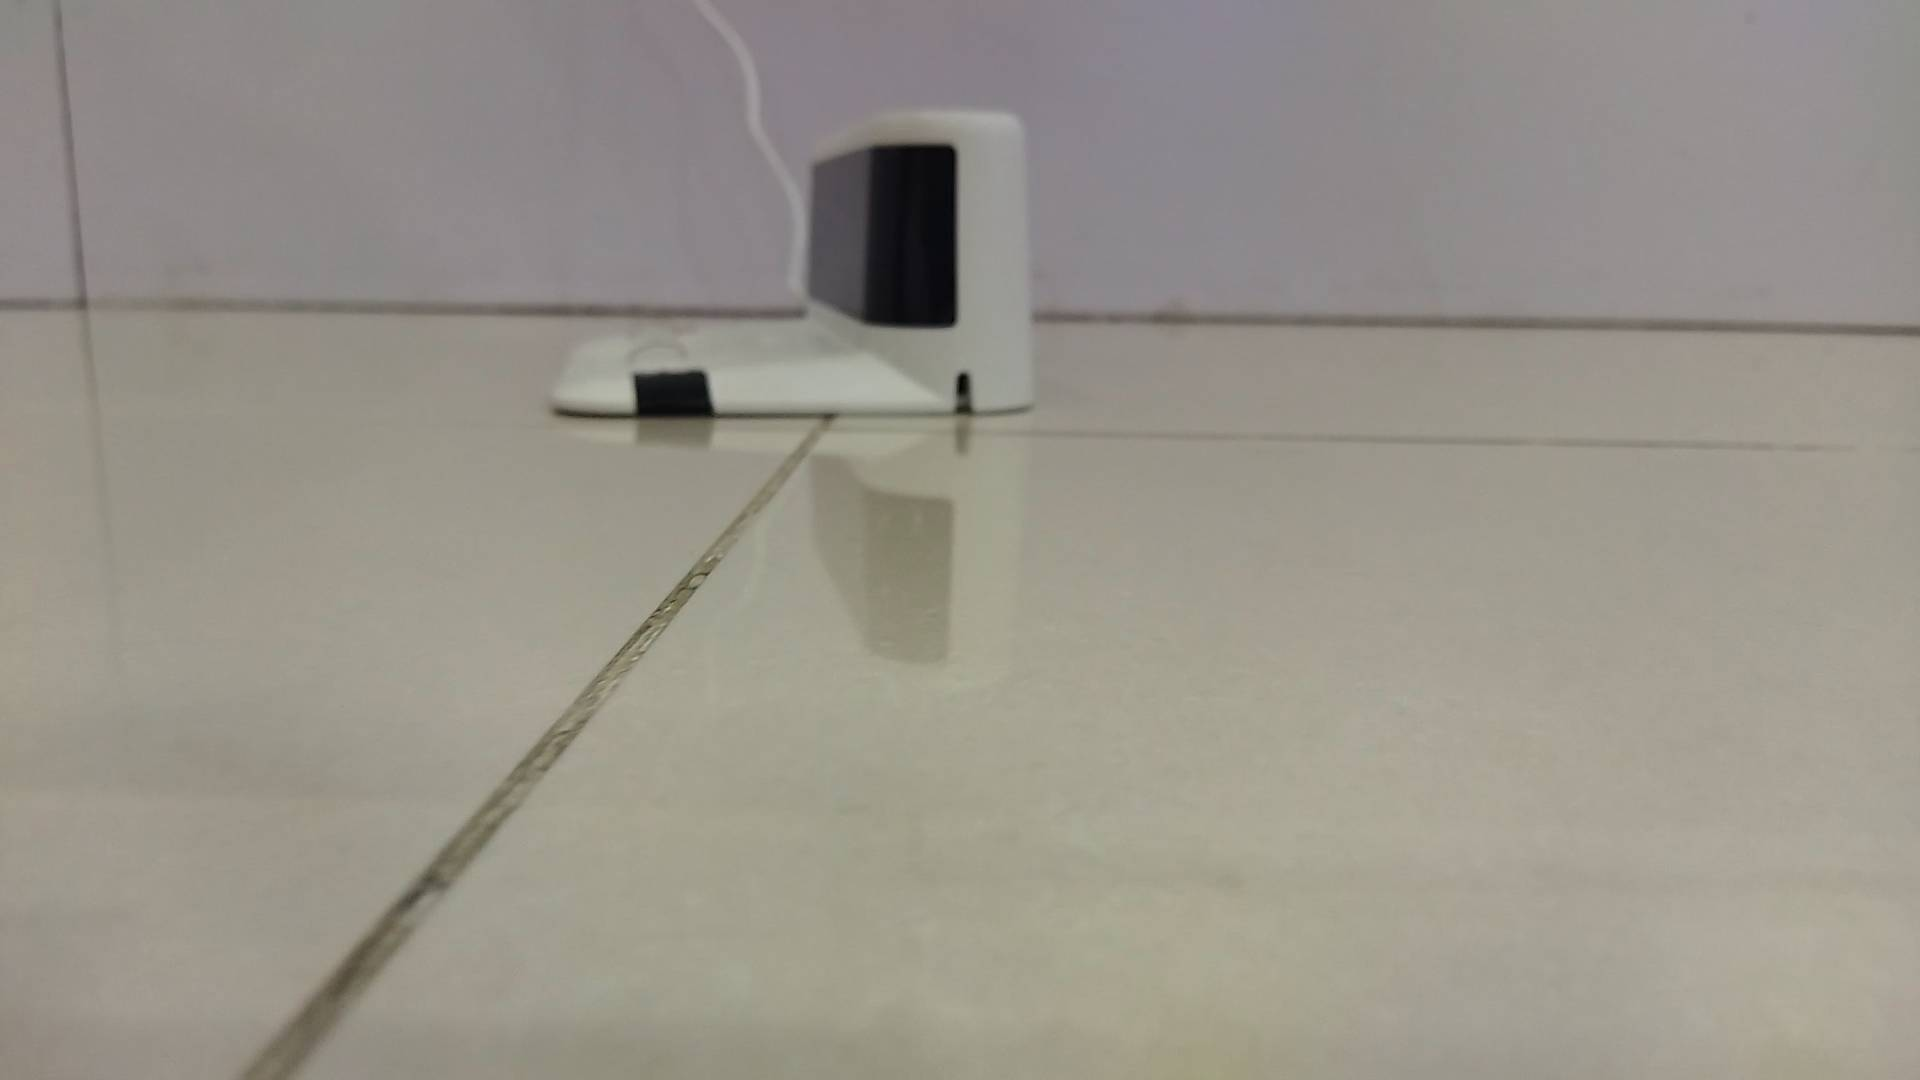recharge seat: (549, 109, 1036, 413)
